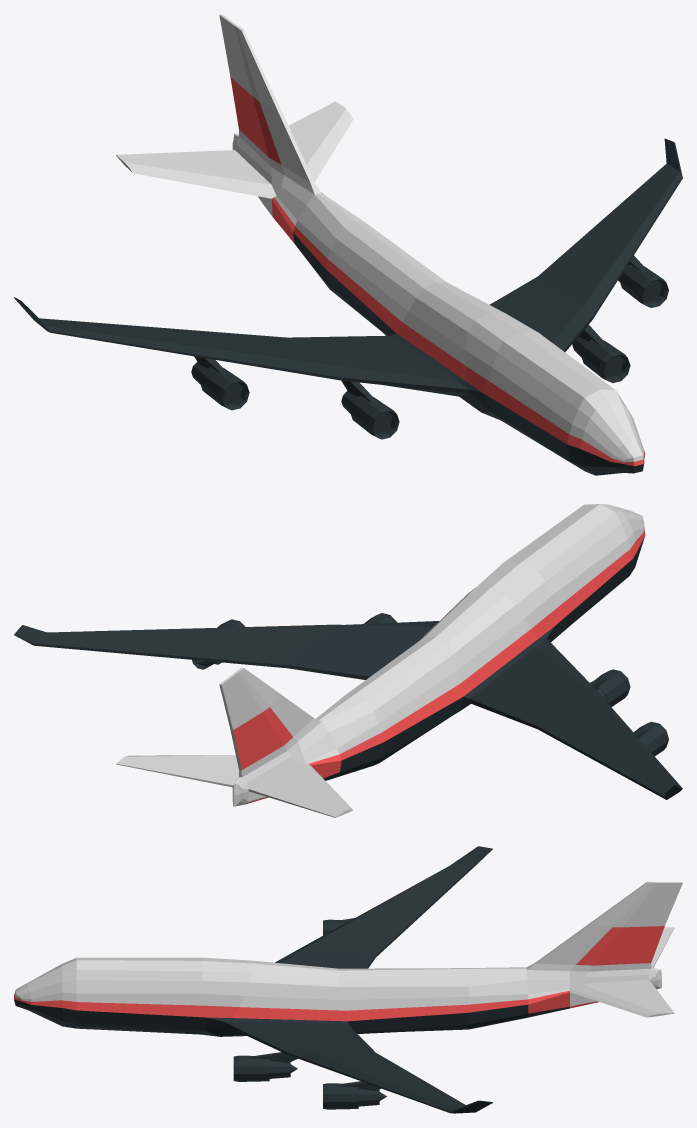
3 views of the same model, one above another, from view 1: azimuth 30°, elevation 25°; view 2: azimuth 150°, elevation 25°; view 3: azimuth 270°, elevation 25° (orthographic). The views are drawn at different scales.
Visible parts, largest first — view 1: SimplePlane; view 2: SimplePlane; view 3: SimplePlane.
Part boxes in pixels (x1=…): SimplePlane: x1=14, y1=14, x2=682, y2=475; SimplePlane: x1=14, y1=504, x2=682, y2=817; SimplePlane: x1=14, y1=846, x2=682, y2=1113.
Size of the model in its own units: 2.29 by 0.6417 by 2.54.
Materials: 1 (1 with a texture image).
